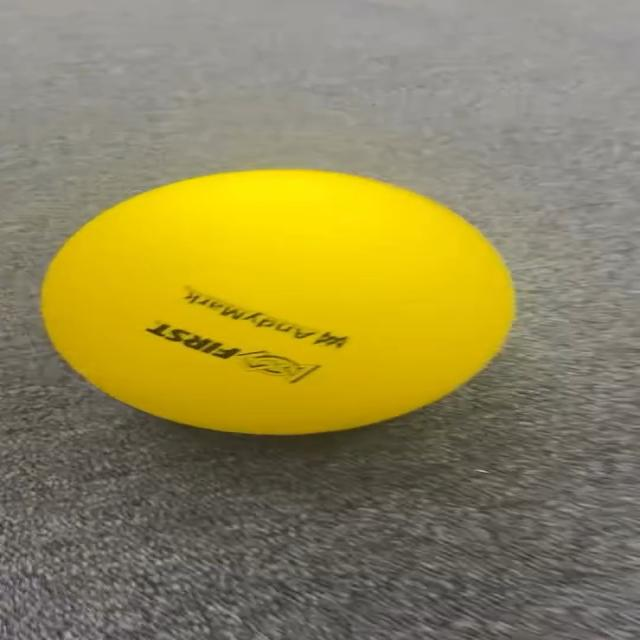Fuels: (42, 172, 514, 432)
